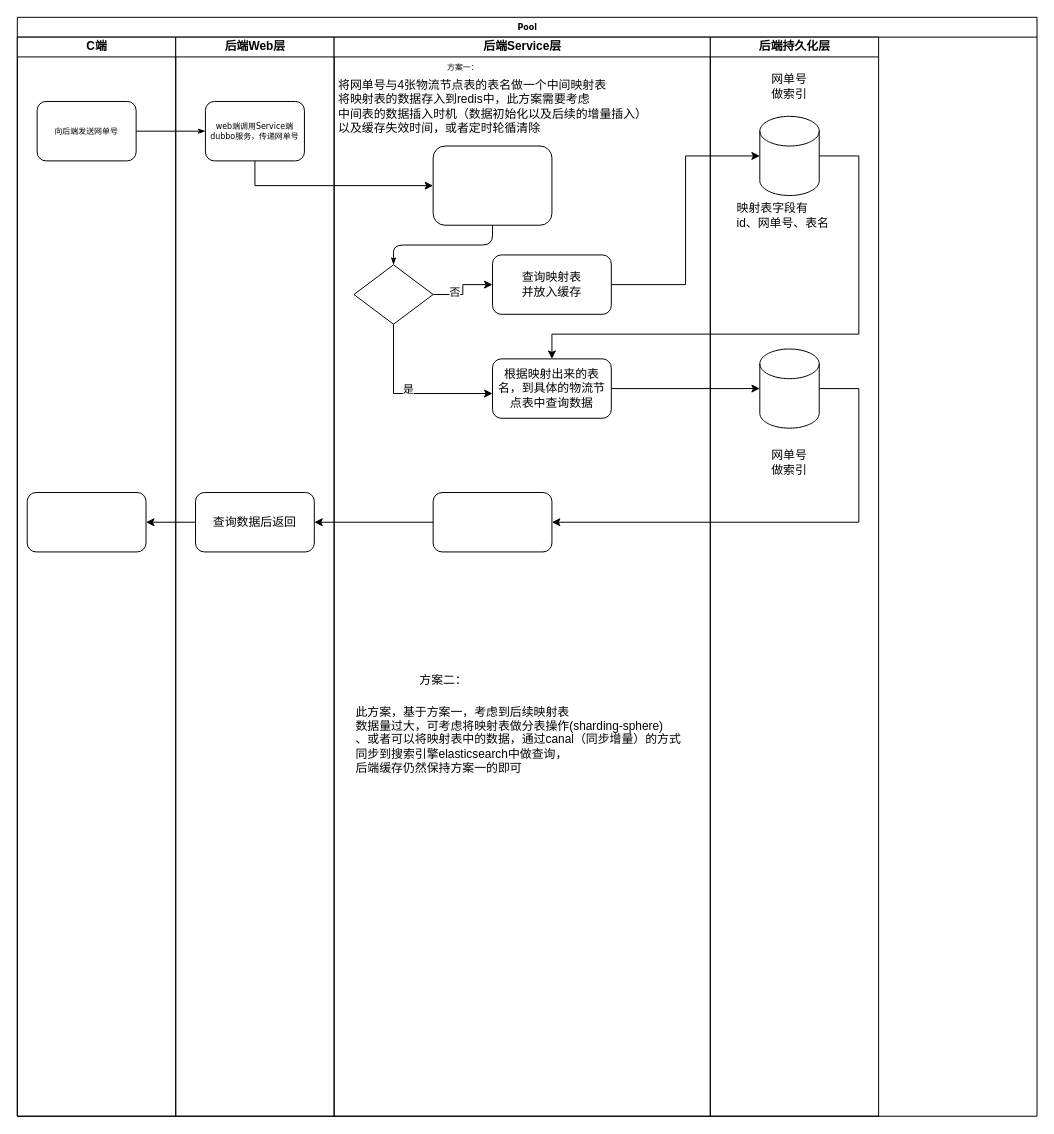
This 1054x1134 diagram has some shape labels left out. The box of each missing label's shape, as (x1, y1, x2, y2) in pixels:
4张物流节点表的其中的某一张: (759, 348, 819, 428)
前端接收结果展示: (26, 492, 146, 552)
映射表: (759, 115, 819, 196)
查出数据后返回: (432, 492, 552, 552)
根据网单号查询缓存，看缓存中是否有 数据: (432, 145, 552, 225)
